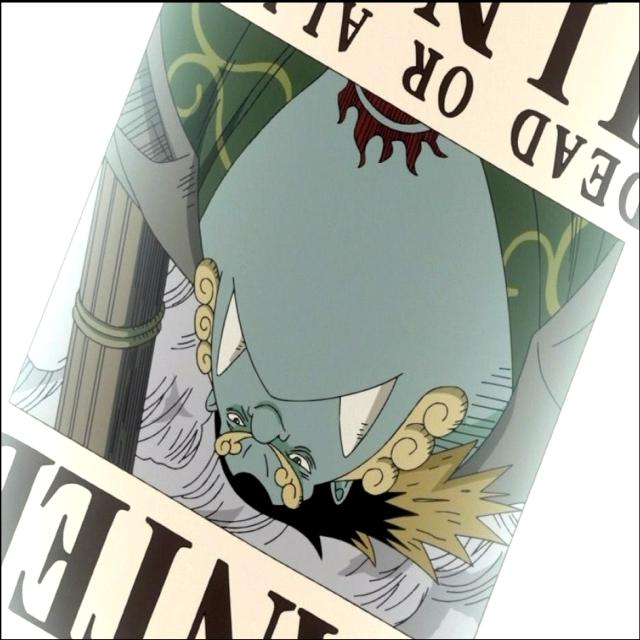Jinbe: (114, 4, 513, 584)
